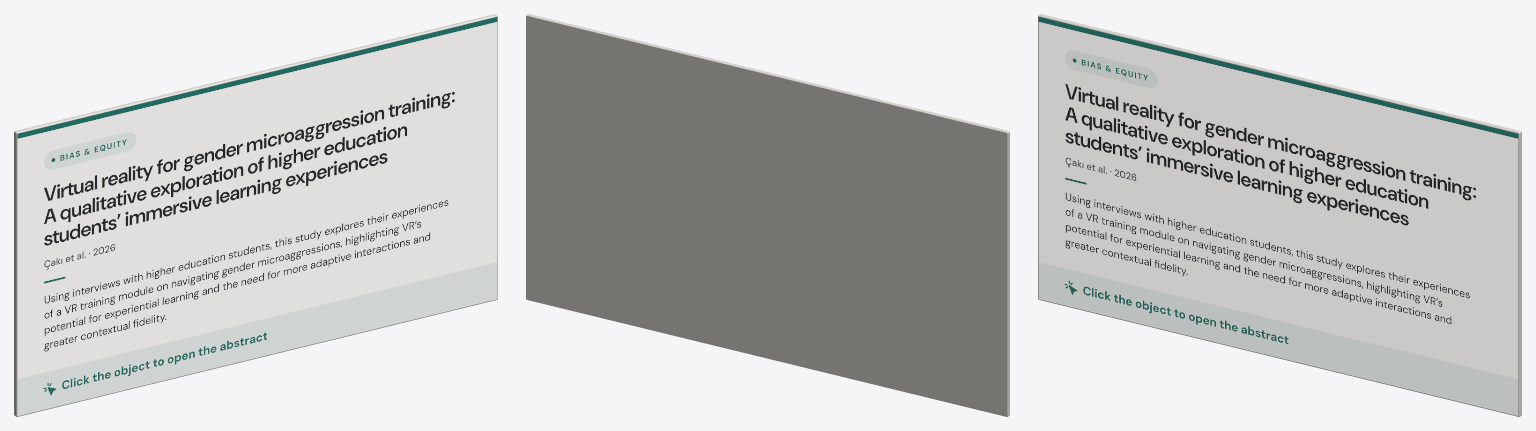
The model's file is plaque-caki-2026.glb.
3 views of the same model, side by side, from view 1: azimuth 30°, elevation 25°; view 2: azimuth 150°, elevation 25°; view 3: azimuth 330°, elevation 25° (orthographic).
Visible parts, largest first — view 1: plaque-caki-2026; view 2: plaque-caki-2026; view 3: plaque-caki-2026.
Part boxes in pixels (x1=…): plaque-caki-2026: x1=14, y1=14, x2=497, y2=416; plaque-caki-2026: x1=526, y1=14, x2=1009, y2=416; plaque-caki-2026: x1=1038, y1=14, x2=1521, y2=416.
Size of the model in its own units: 0.643 by 0.363 by 0.006.
2 materials, 1 textured.
